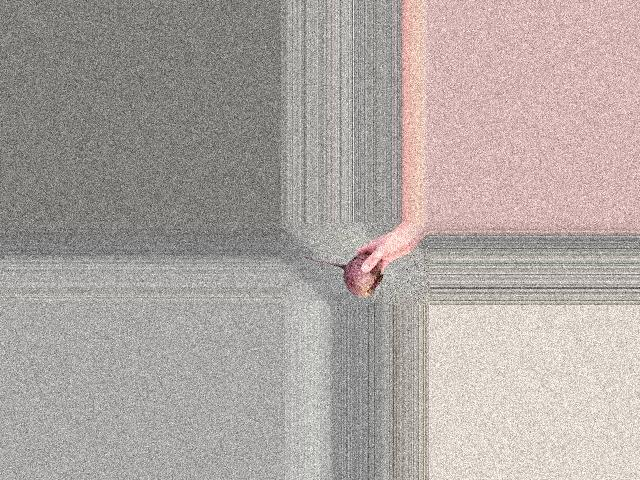beet: (305, 255, 382, 297)
